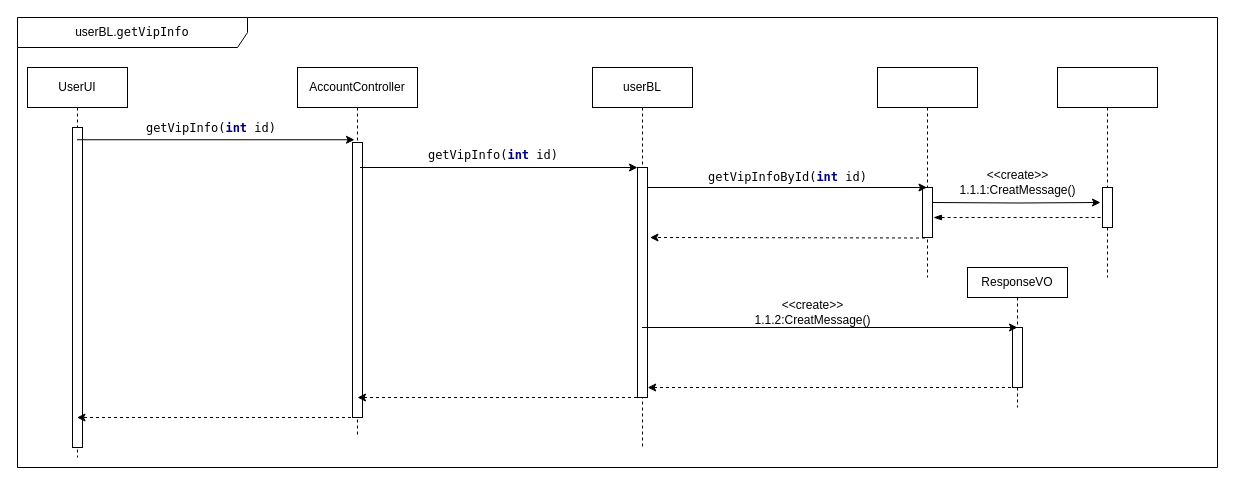
This 1235x485 diagram has some shape labels left out. The centre of each missing label's shape, as x and y in pixels:
AccountMapper: the point at 927,172
vipPO: the point at 1107,172
